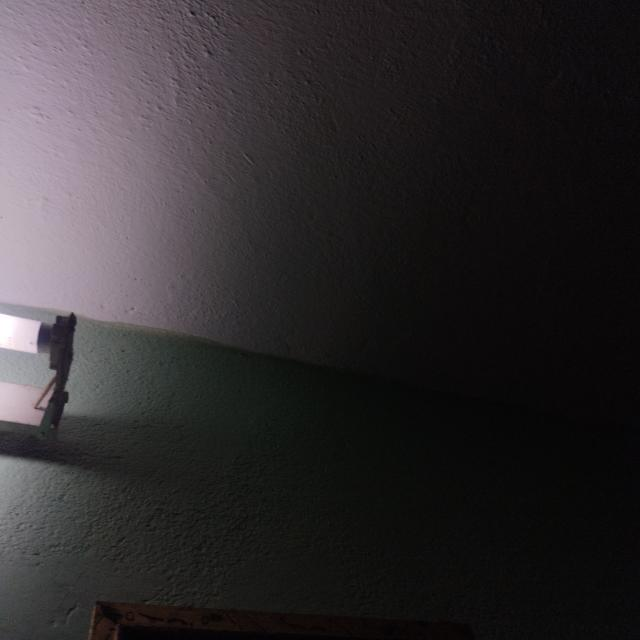tubelight_on: (0, 300, 81, 448)
